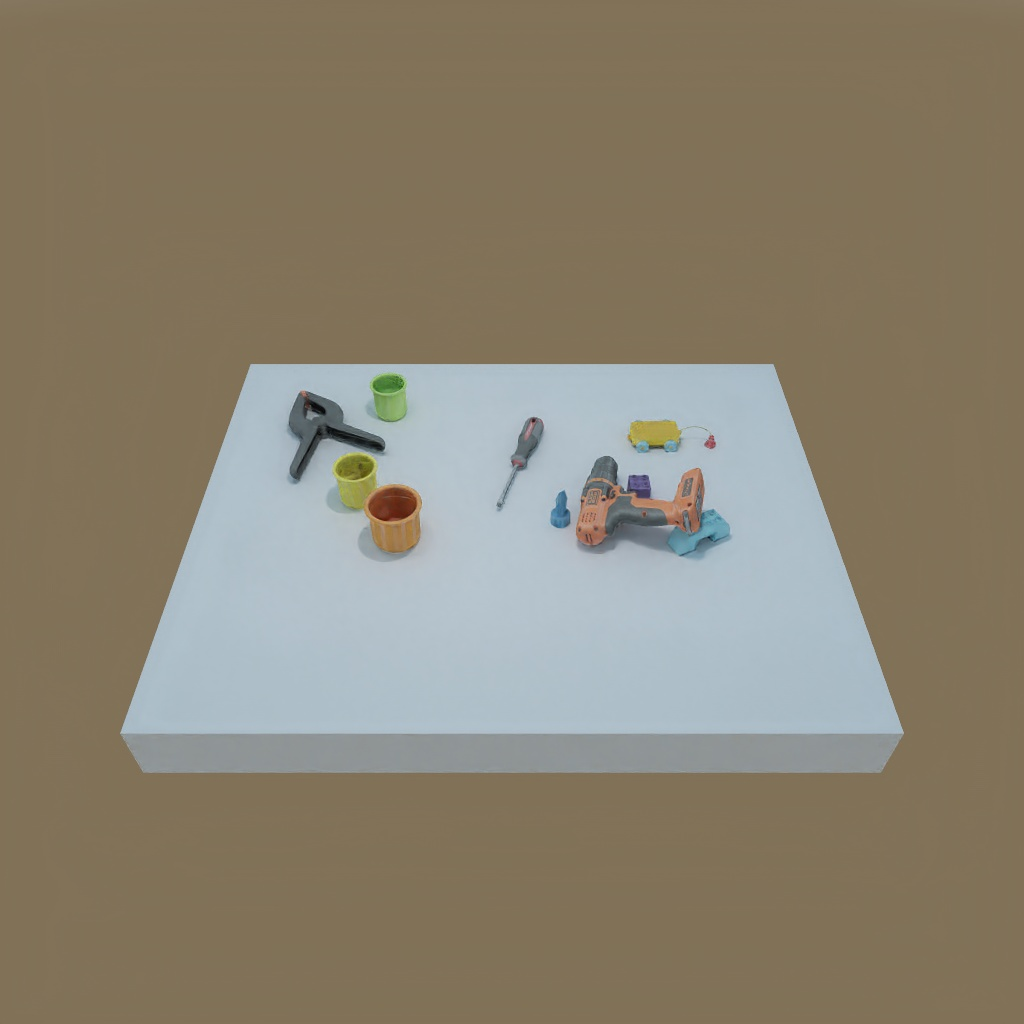power_drill: (581, 455, 703, 540)
